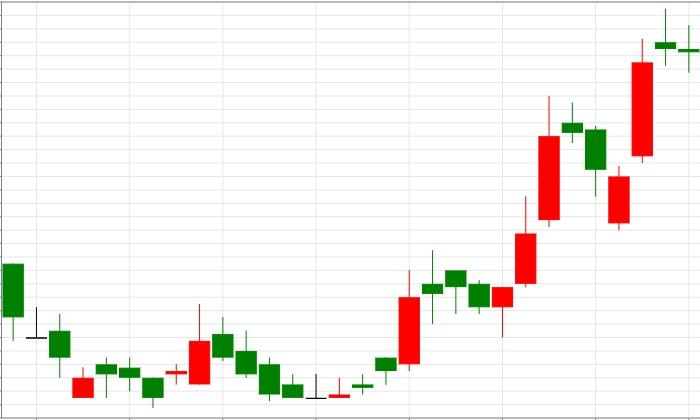evening_star_fall: (492, 94, 606, 337)
